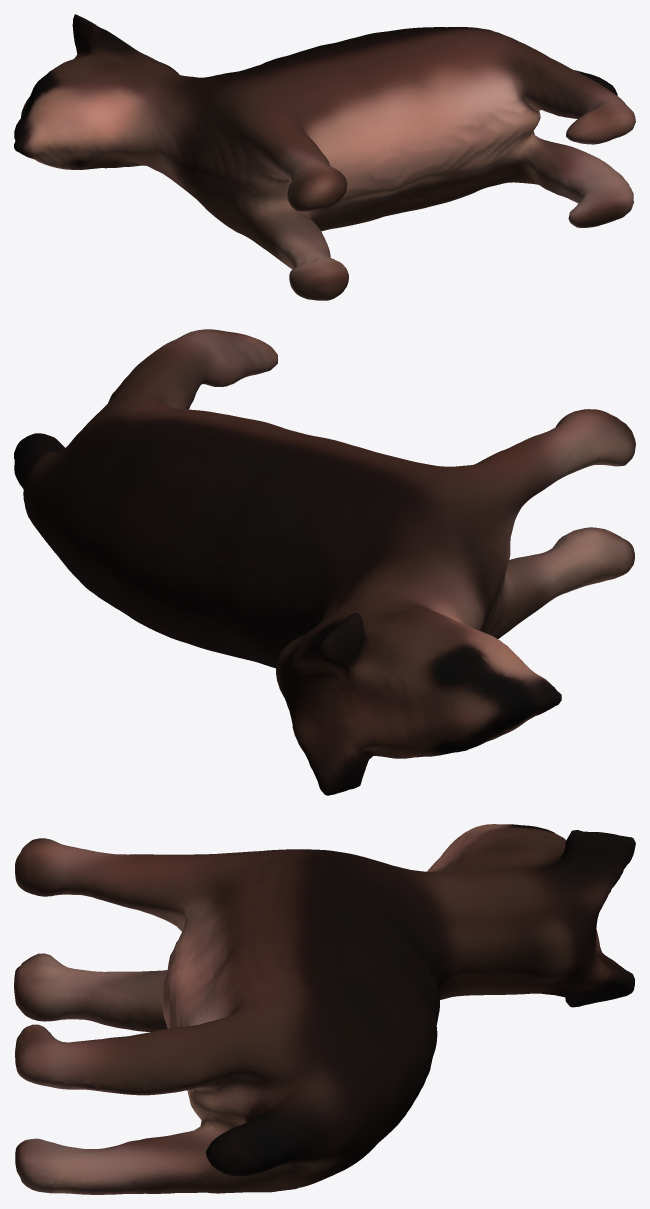
3 renders of one model, top to bottom at view 1: azimuth 30°, elevation 25°; view 2: azimuth 150°, elevation 25°; view 3: azimuth 270°, elevation 25°, orthographic. The views are drawn at different scales.
Parts seen in each view (by area): view 1: plyFile; view 2: plyFile; view 3: plyFile.
Part boxes in pixels (x1,y1,x2,y2): plyFile: (14,14,635,300); plyFile: (14,329,635,795); plyFile: (14,824,635,1194).
Bounding box in the file's own units: 198 × 60.72 × 161.
